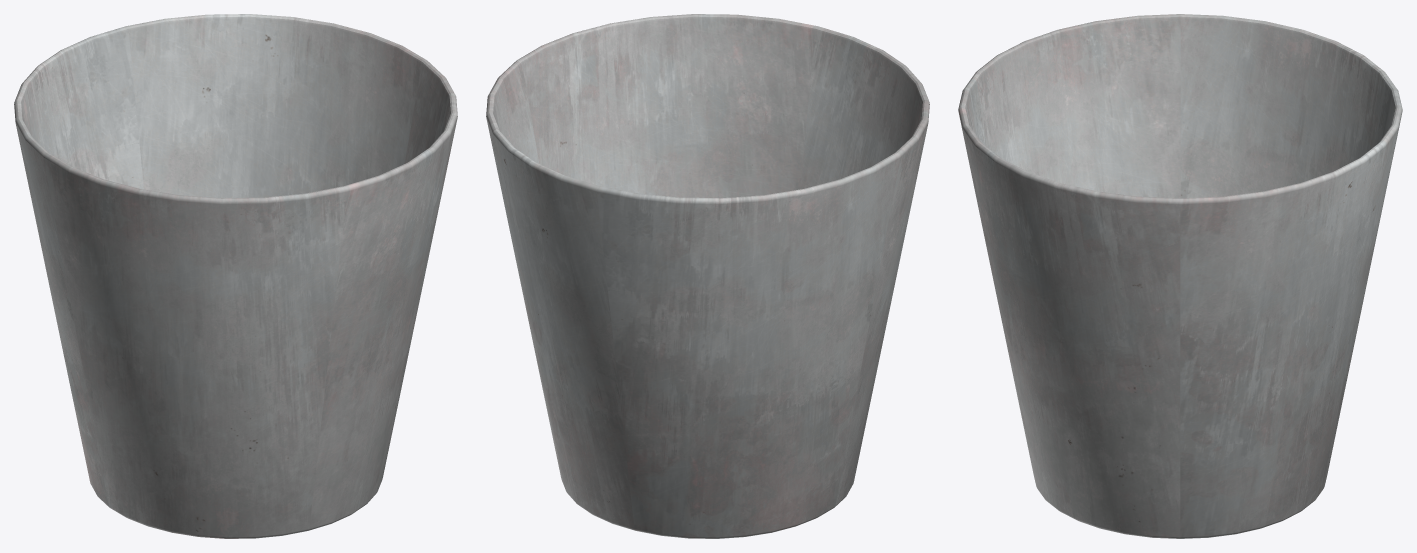
The model's file is sabri.glb.
The picture shows the model from 3 angles, left to right: view 1: azimuth 30°, elevation 25°; view 2: azimuth 150°, elevation 25°; view 3: azimuth 270°, elevation 25°; orthographic projection.
Parts seen in each view (by area): view 1: Cylinder; view 2: Cylinder; view 3: Cylinder.
Part boxes in pixels (x1,y1,x2,y2): Cylinder: [14, 14, 457, 538]; Cylinder: [486, 14, 929, 538]; Cylinder: [958, 14, 1402, 538].
Bounding box in the file's own units: 2.82 × 2.6 × 2.82.
1 material, 1 textured.
